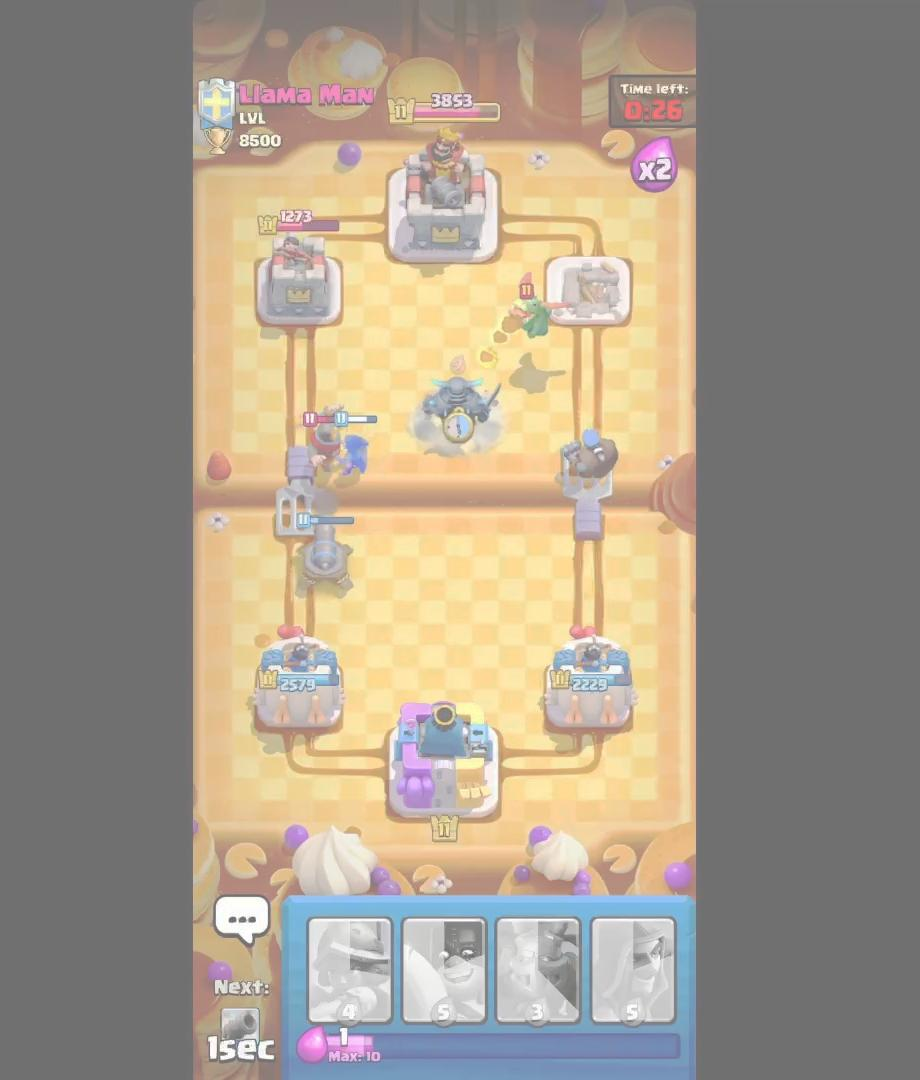Baby Dragon: (494, 282, 567, 346)
Knight: (297, 405, 350, 477)
